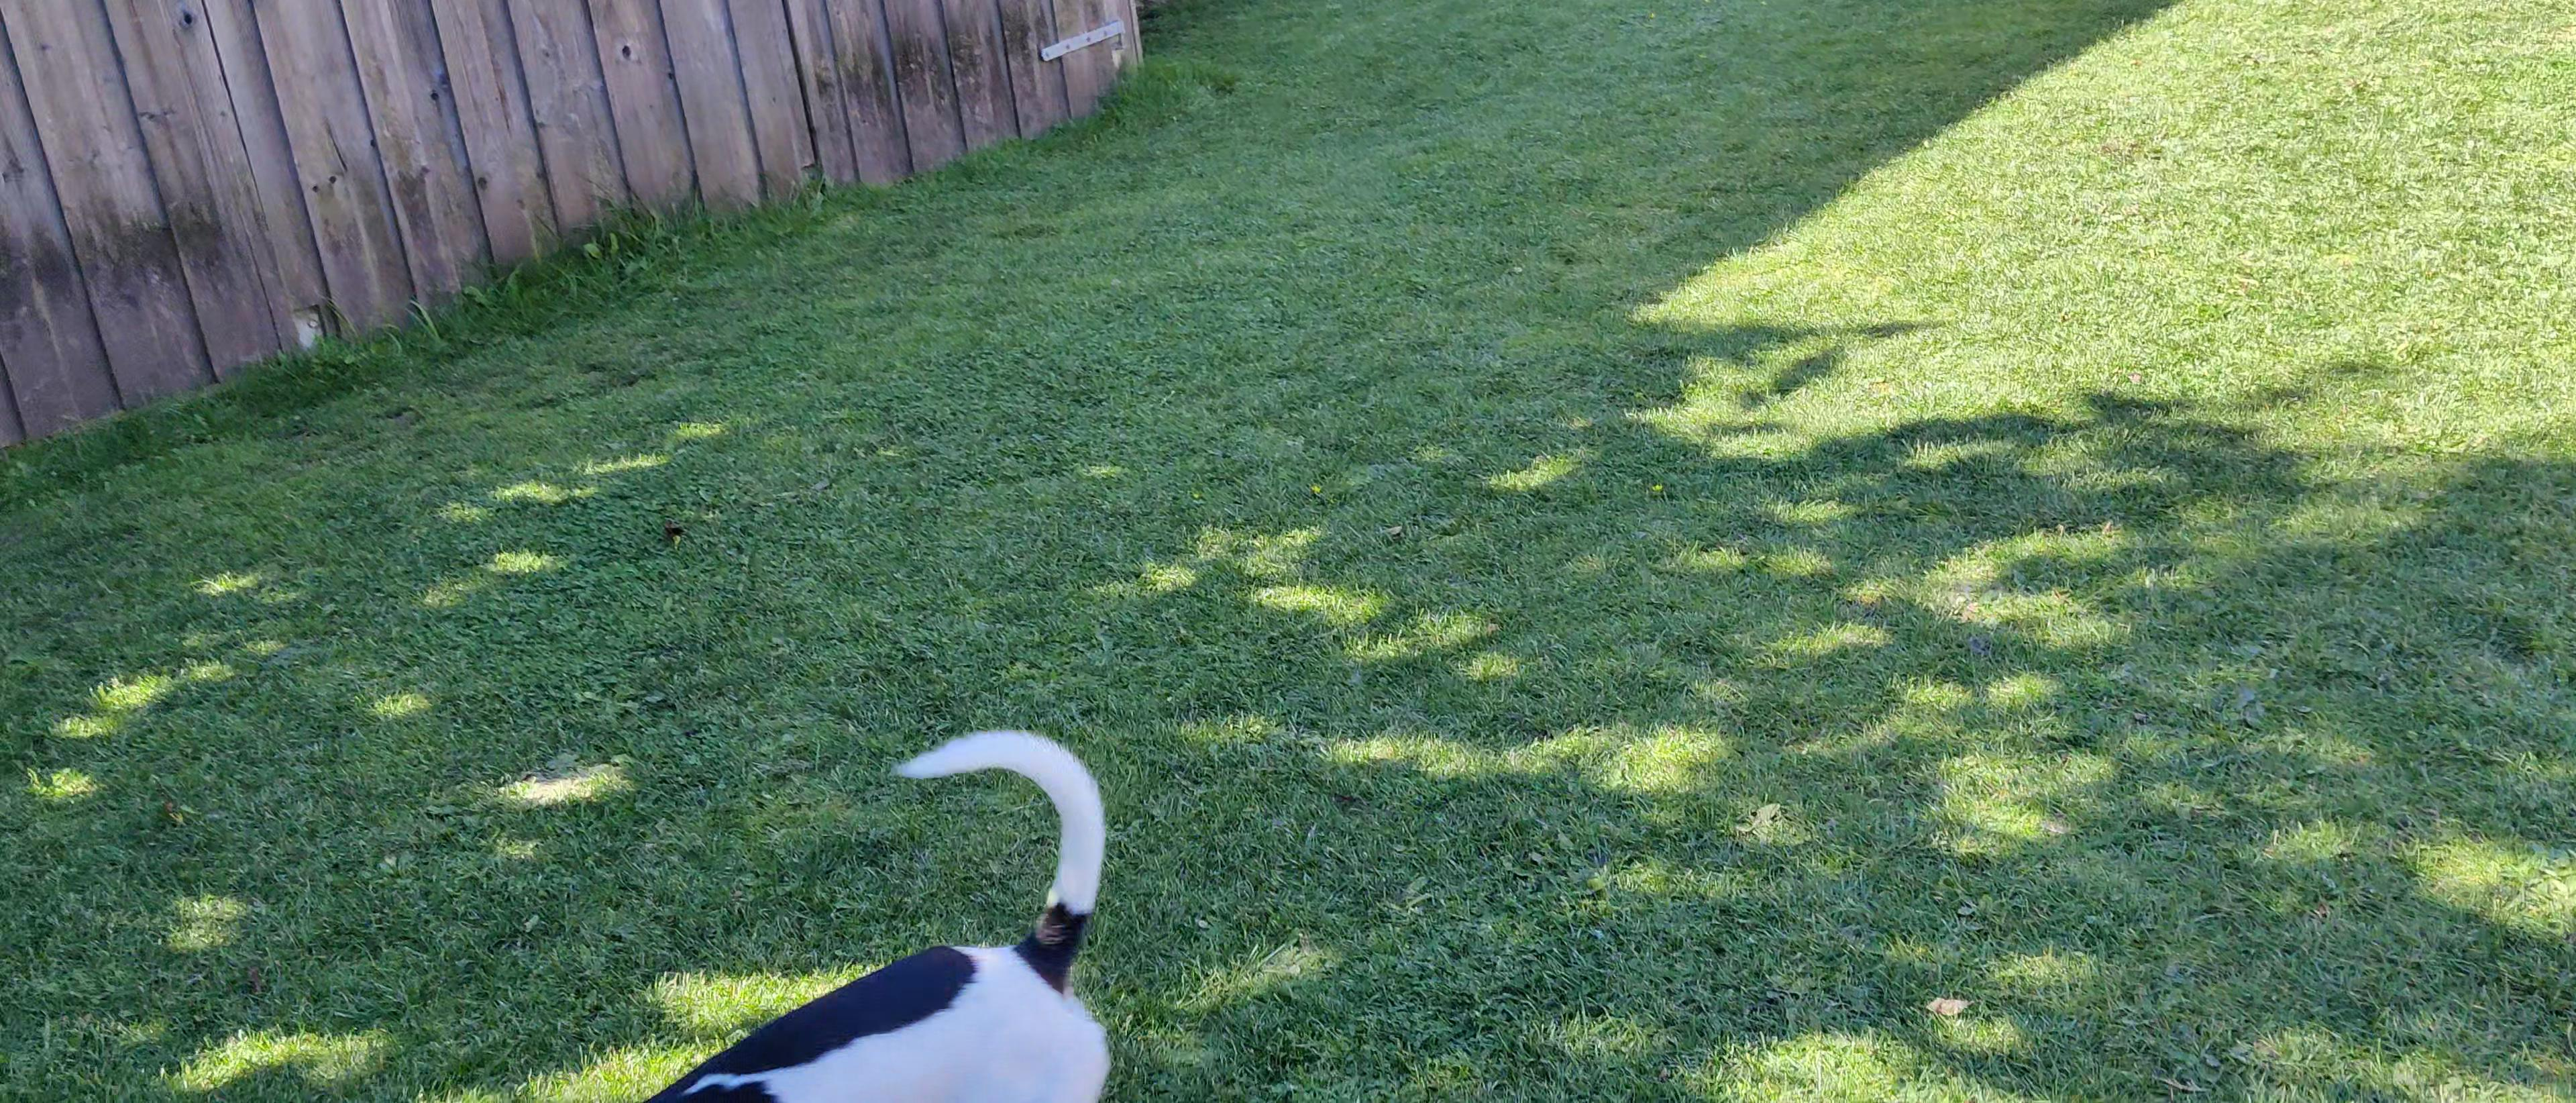Dog: (552, 702, 1193, 1103)
